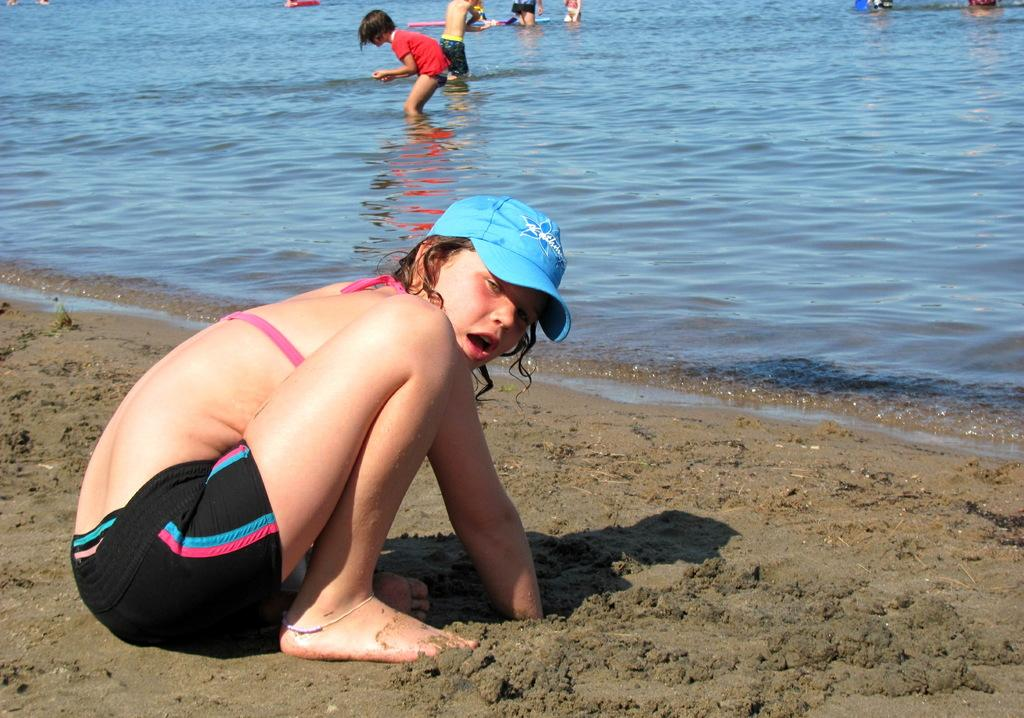Hat: (430, 194, 572, 342)
